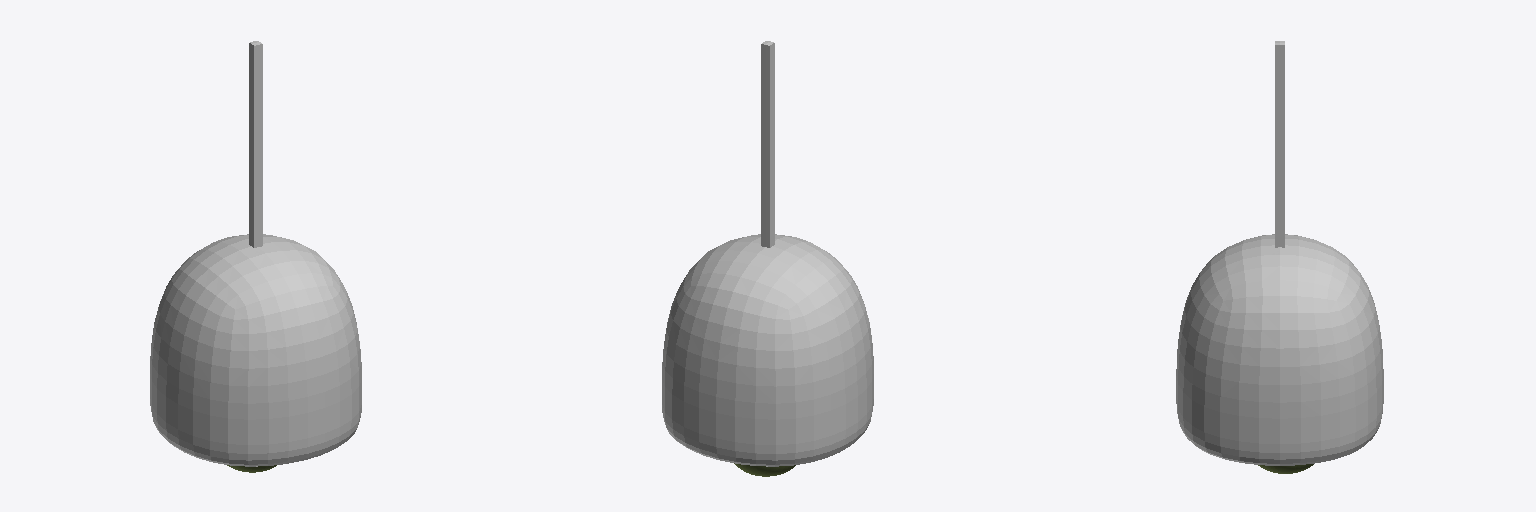
Rendered from LAMPICA.obj.
3 renders of one model, left to right at view 1: azimuth 30°, elevation 25°; view 2: azimuth 150°, elevation 25°; view 3: azimuth 270°, elevation 25°, orthographic.
Parts seen in each view (by area): view 1: luster_Cube.001; view 2: luster_Cube.001; view 3: luster_Cube.001.
Part boxes in pixels (bbox=[...]): luster_Cube.001: bbox=[150, 41, 361, 472]; luster_Cube.001: bbox=[662, 41, 873, 476]; luster_Cube.001: bbox=[1176, 41, 1383, 473].
Size of the model in its own units: 1.84 by 4.19 by 1.84.